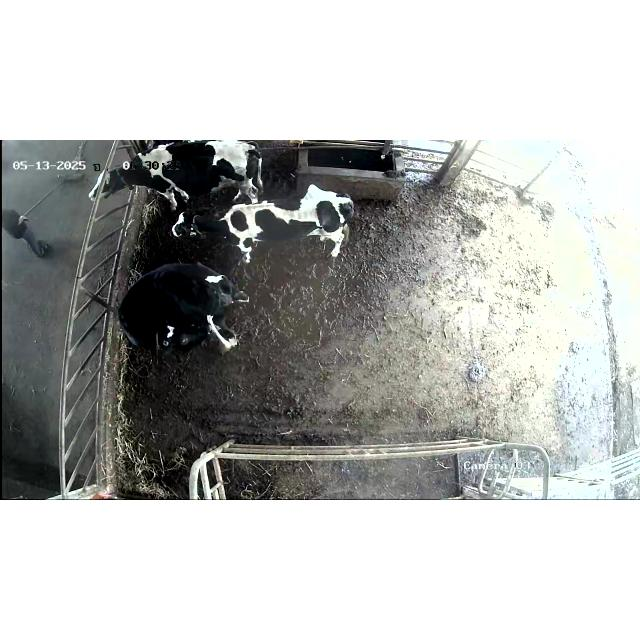stand: (171, 184, 355, 263)
